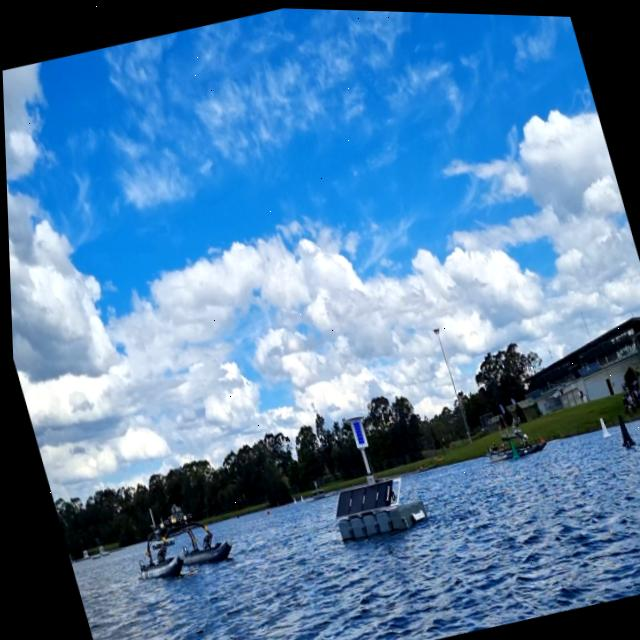led: (347, 417, 364, 444)
